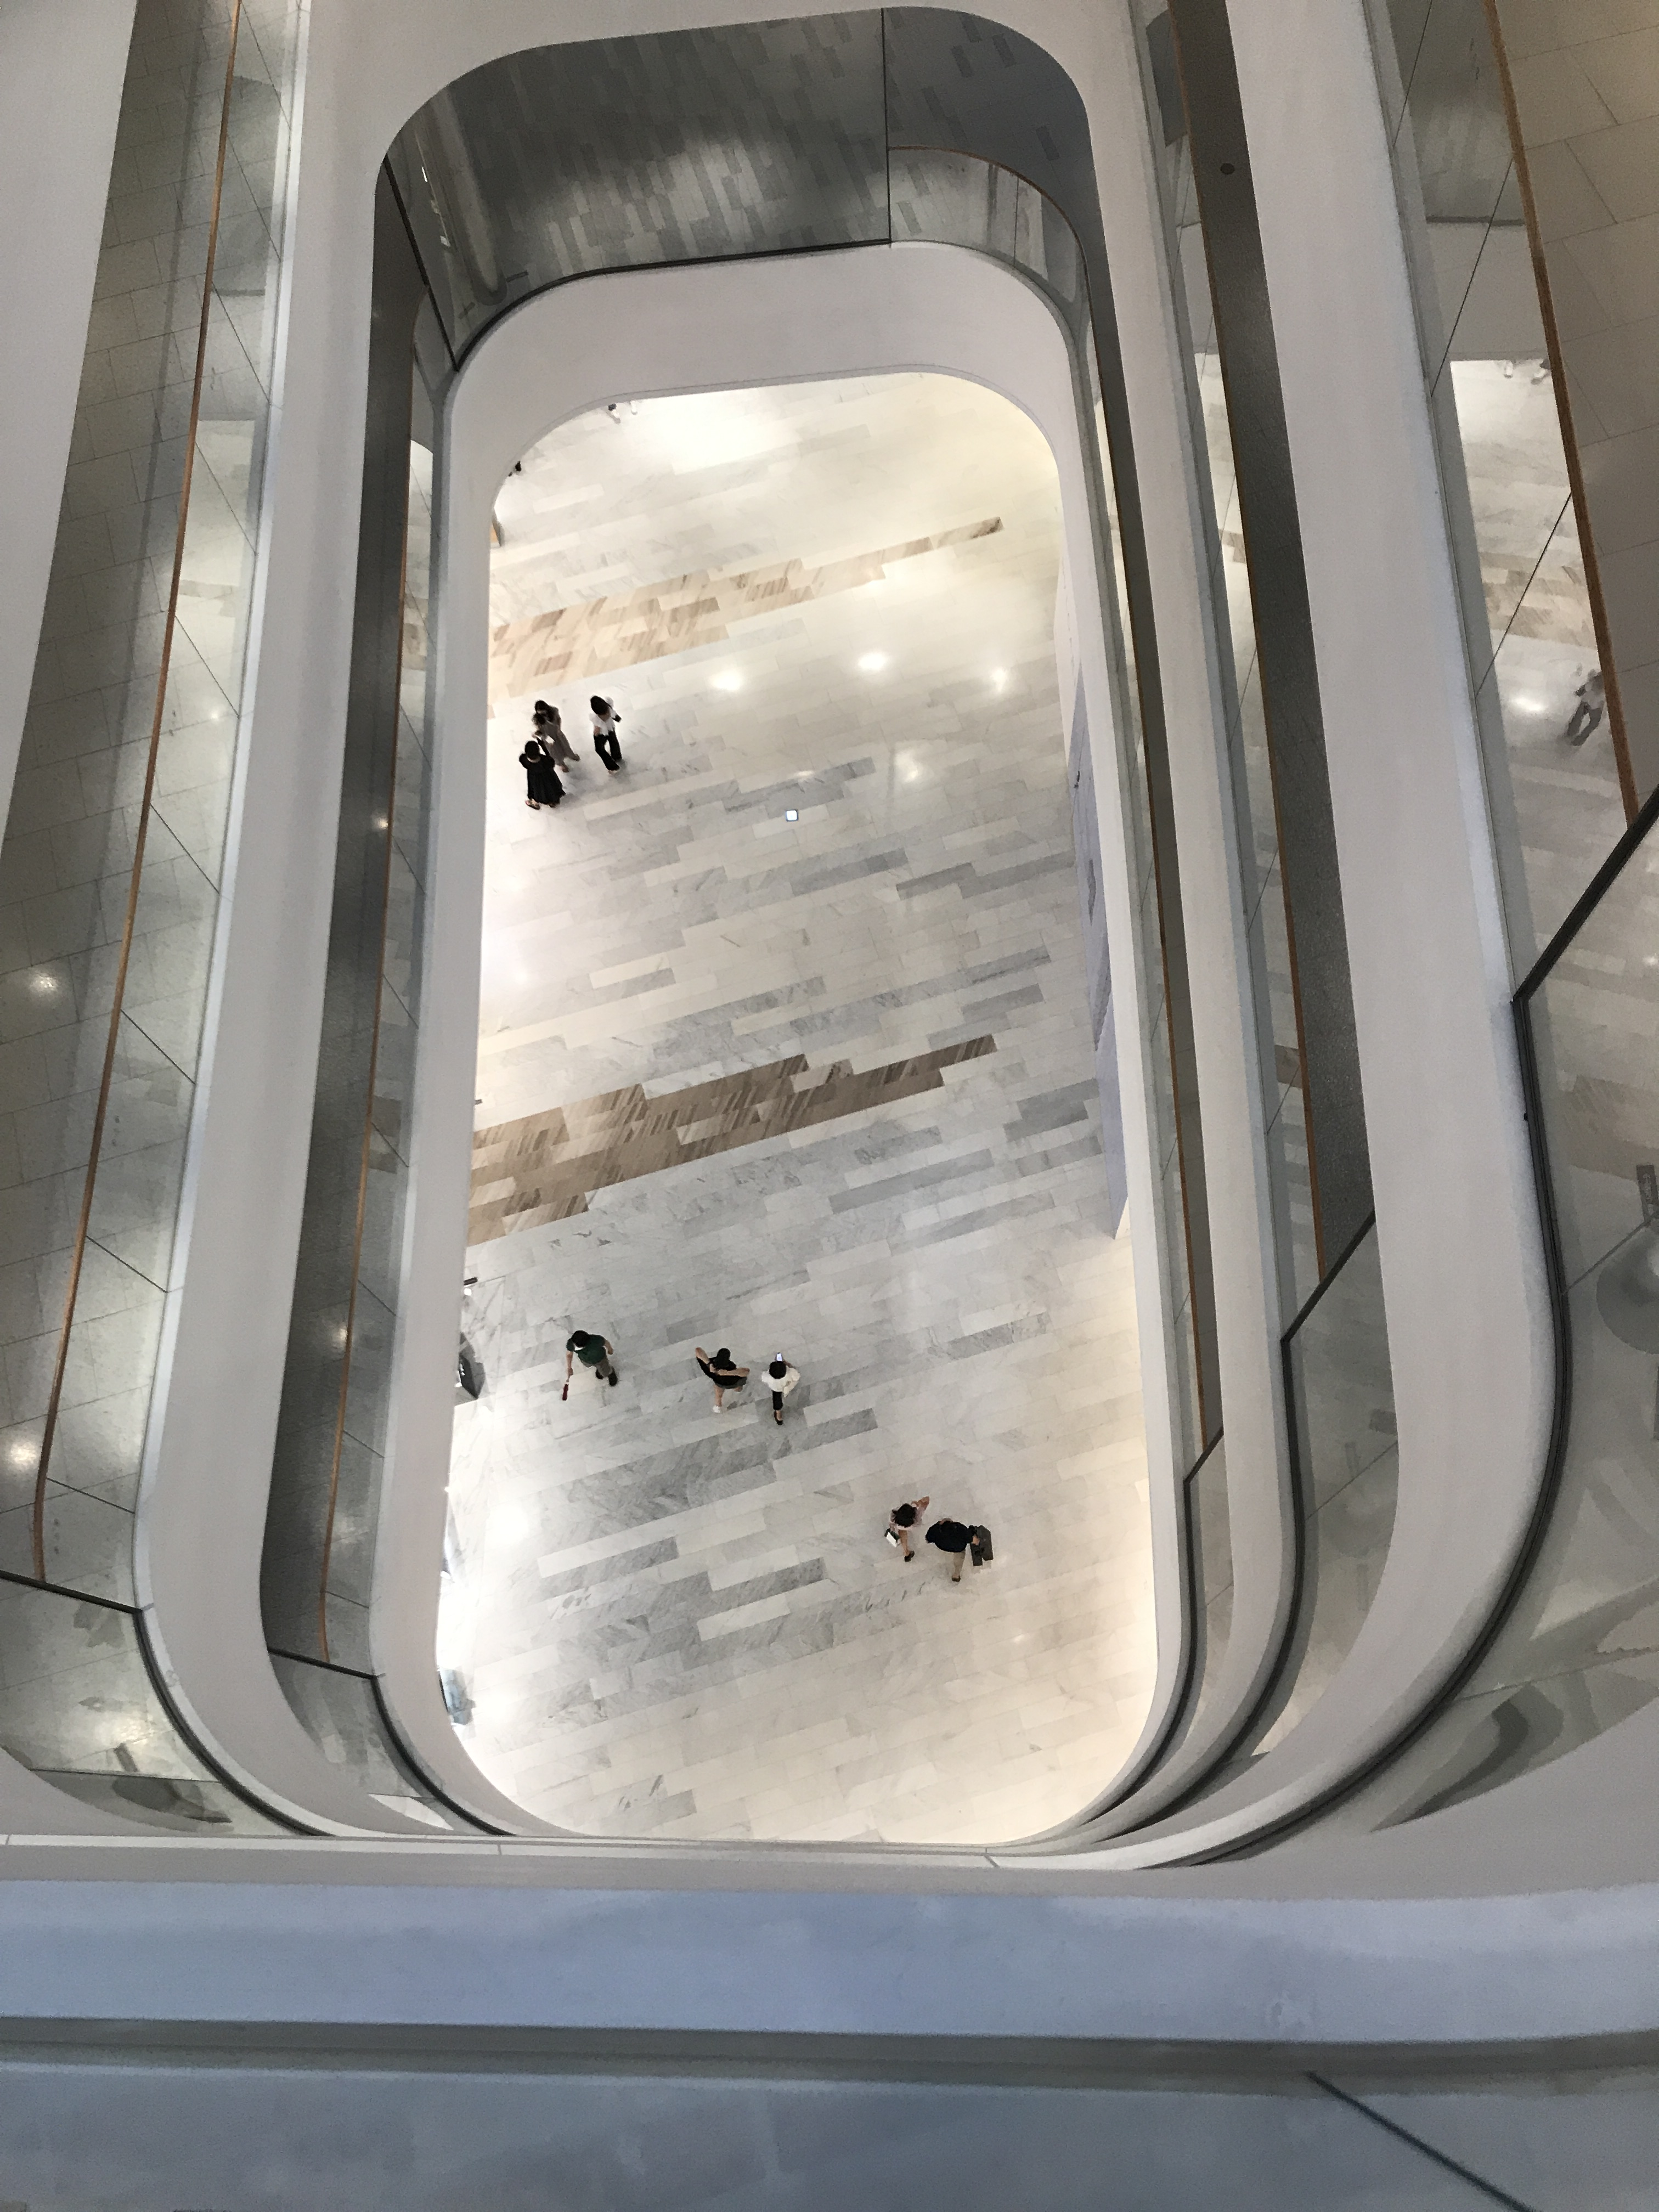person: (560, 1328, 623, 1390), (932, 1522, 991, 1585), (517, 740, 565, 812), (533, 699, 578, 771), (883, 1497, 930, 1558), (589, 695, 628, 772), (697, 1350, 743, 1414), (760, 1353, 796, 1426)
